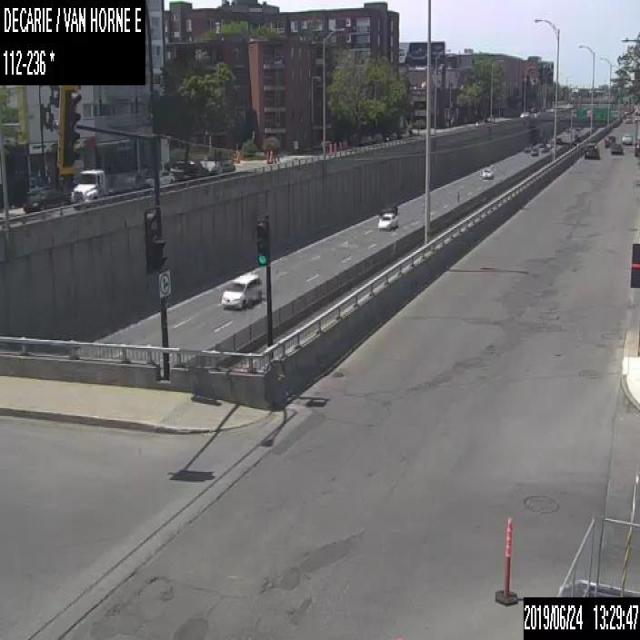construction: (495, 513, 520, 604), (268, 148, 272, 162), (332, 140, 336, 152), (328, 141, 331, 153), (338, 139, 341, 150), (344, 138, 347, 148), (342, 138, 344, 150), (266, 150, 268, 162)
vehicle: (69, 167, 150, 210), (220, 270, 261, 306), (24, 188, 66, 213), (146, 168, 174, 186), (376, 212, 398, 229), (378, 201, 398, 214), (584, 142, 598, 158), (481, 165, 494, 179), (604, 133, 616, 148), (621, 132, 633, 144), (610, 142, 622, 154), (633, 139, 639, 157), (624, 115, 632, 123), (530, 146, 537, 155), (523, 144, 530, 152), (634, 114, 639, 123), (537, 139, 544, 145)
